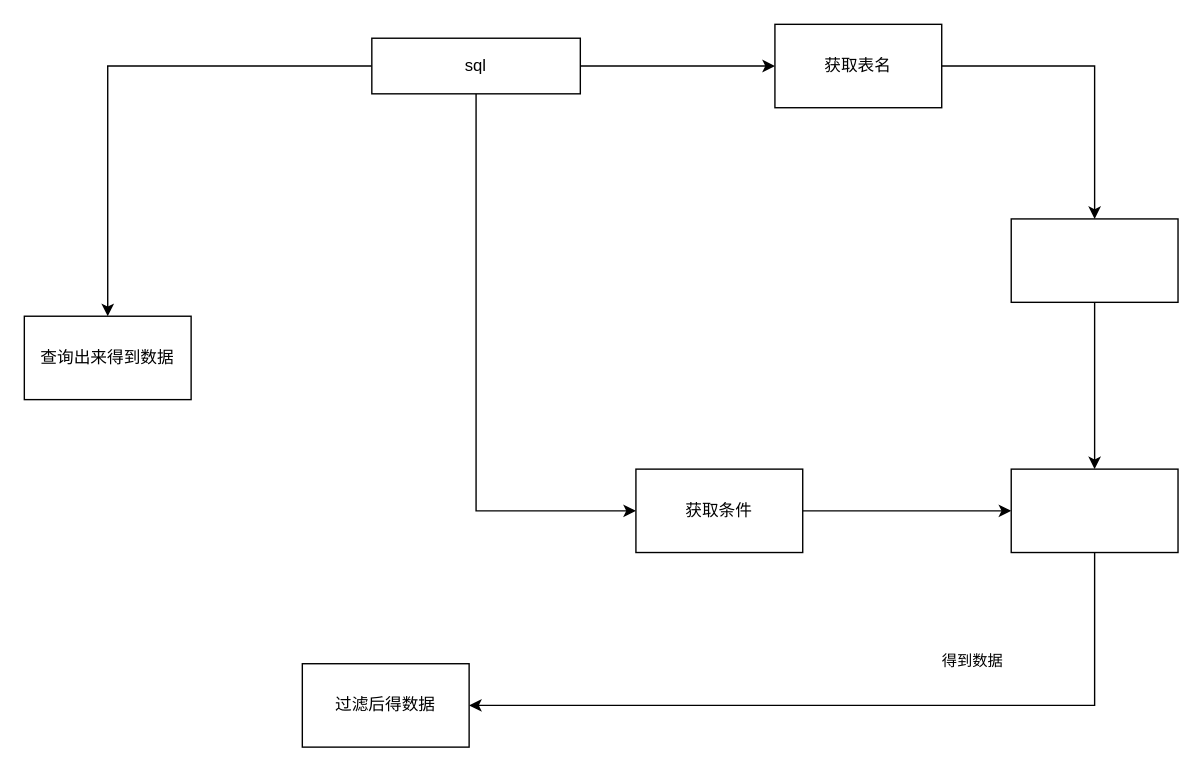
Some shapes in this 1202 by 771 pixel diagram are drawn without their labels. The box of each missing label's shape, as (x1, y1, x2, y2) in pixels:
数据条件做关联: (1010, 468, 1178, 553)
获取所有表记录: (1010, 218, 1178, 302)
